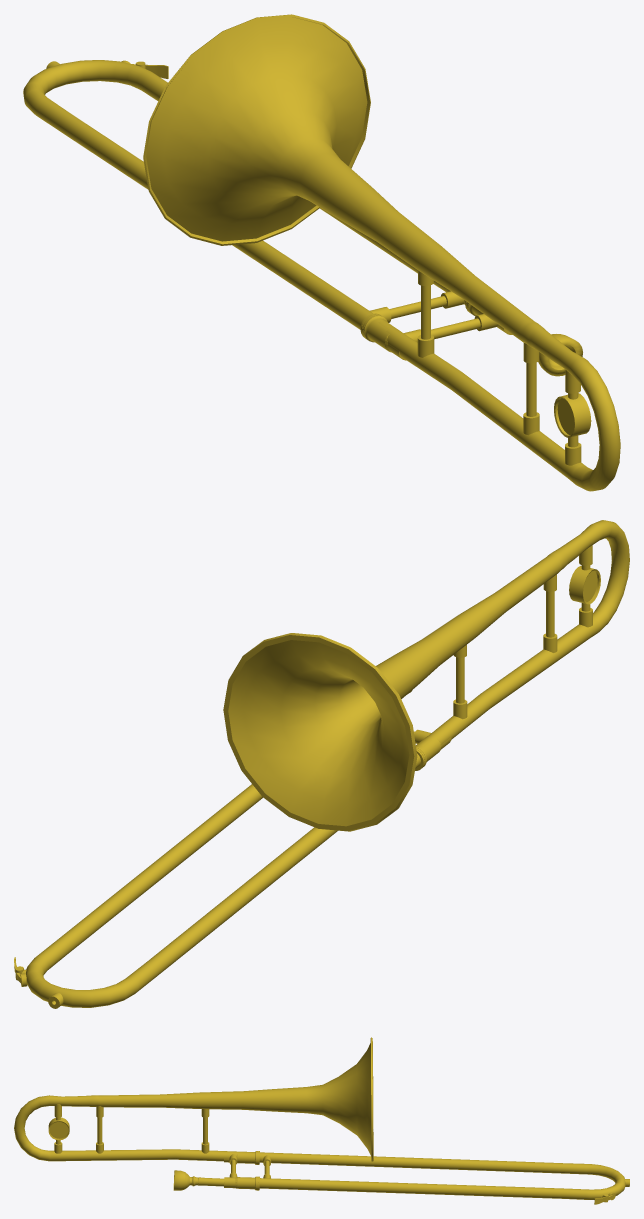
File: trombone.obj
The picture shows the model from 3 angles, top to bottom: view 1: azimuth 30°, elevation 25°; view 2: azimuth 150°, elevation 25°; view 3: azimuth 270°, elevation 25°; orthographic projection. The views are drawn at different scales.
Parts seen in each view (by area): view 1: trombone; view 2: trombone; view 3: trombone.
Part boxes in pixels (<box>): trombone: <box>23,14,620,491</box>; trombone: <box>14,520,629,1008</box>; trombone: <box>14,1037,629,1204</box>.
Bounding box in the file's own units: 5.3 × 5.37 × 22.78.
